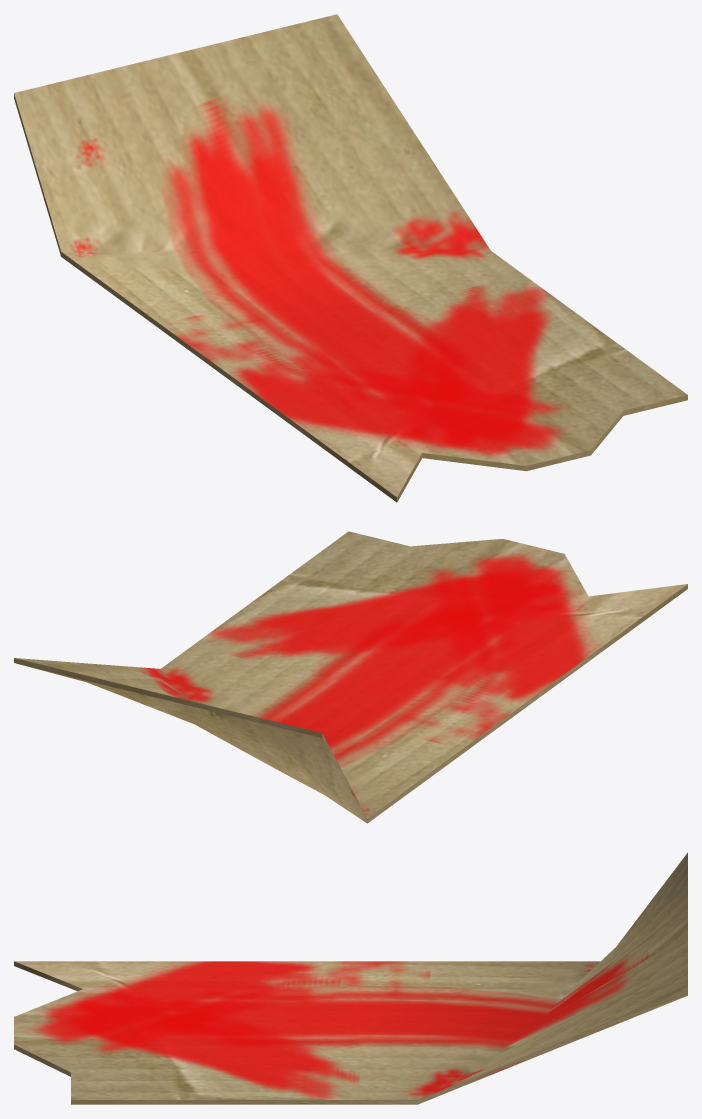
The model's file is kartonnen bord pijl.FBX.
The picture shows the model from 3 angles, top to bottom: view 1: azimuth 30°, elevation 25°; view 2: azimuth 150°, elevation 25°; view 3: azimuth 270°, elevation 25°; orthographic projection. The views are drawn at different scales.
Parts seen in each view (by area): view 1: Box001; view 2: Box001; view 3: Box001.
Boxes of the visible parts, left/top/right/bottom form: Box001: left=14, top=14, right=687, bottom=502; Box001: left=14, top=531, right=687, bottom=823; Box001: left=14, top=852, right=687, bottom=1104.
Size of the model in its own units: 72.41 by 27.67 by 149.
Materials: 1 (1 with a texture image).
